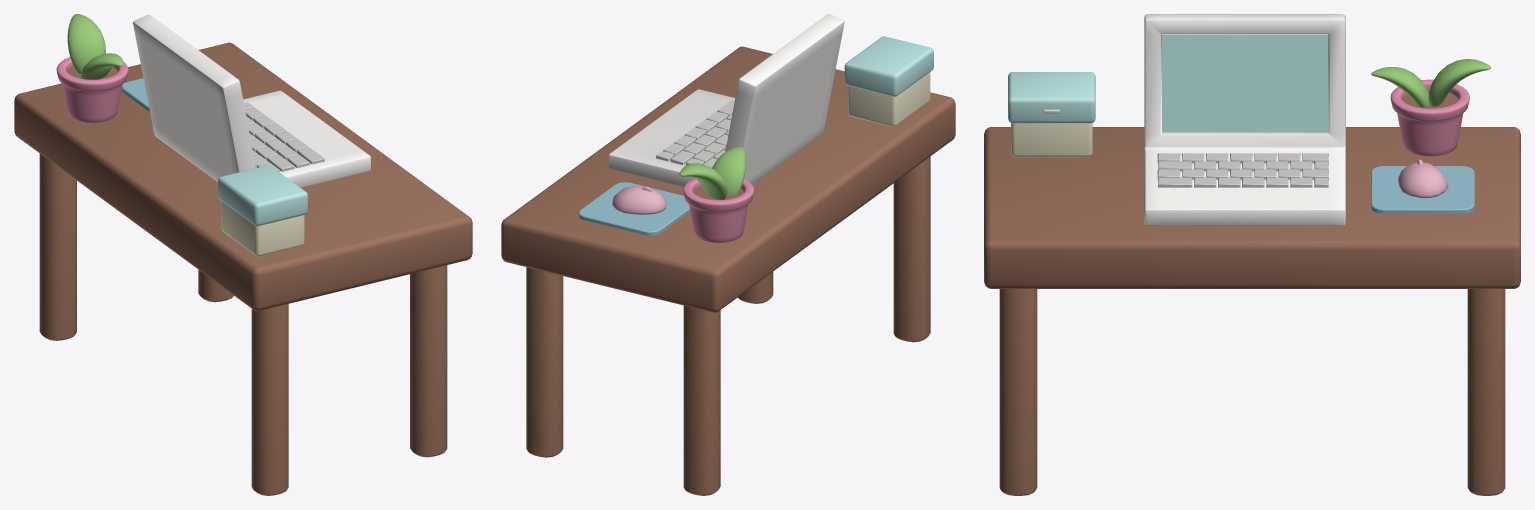
The model's file is desk.gltf.
3 renders of one model, left to right at view 1: azimuth 30°, elevation 25°; view 2: azimuth 150°, elevation 25°; view 3: azimuth 270°, elevation 25°, orthographic. The views are drawn at different scales.
Parts seen in each view (by area): view 1: 책상, 노트북-Mfloor2, Cube.1 (×2), Cube (×3), Cube.10, Cylinder-서랍, Cube.9, Sphere, Sphere.1; view 2: 책상, 노트북-Mfloor2, Cube.1 (×2), Cube (×3), Cube.10, Cylinder-서랍, Cube.9, Sphere (×2), Sphere.1; view 3: 책상, 노트북-Mfloor2, Cube (×3), 노트북-rmirror, Cube.10, Cylinder-서랍, Cube.9, Sphere (×2), Sphere.1.
Boxes of the visible parts, x1,y1,x2,y2 form: 책상: (14,42,472,311); 노트북-Mfloor2: (133,14,370,187); Cube.1 (×2): (39,153,288,495); Cube (×3): (121,78,447,457); Cube.10: (218,165,307,226); Cylinder-서랍: (56,57,128,122); Cube.9: (221,201,304,256); Sphere: (67,14,105,73); Sphere.1: (81,53,123,79); 책상: (501,46,955,312); 노트북-Mfloor2: (608,14,844,186); Cube.1 (×2): (683,156,930,495); Cube (×3): (526,182,773,457); Cube.10: (844,36,933,96); Cylinder-서랍: (683,178,754,242); Cube.9: (848,72,930,126); Sphere (×2): (612,163,727,214); Sphere.1: (712,146,745,195); 책상: (984,127,1520,288); 노트북-Mfloor2: (1144,14,1345,225); Cube (×3): (999,166,1505,495); 노트북-rmirror: (1162,34,1328,132); Cube.10: (1008,72,1095,123); Cylinder-서랍: (1390,79,1469,156); Cube.9: (1011,123,1092,157); Sphere (×2): (1398,59,1490,198); Sphere.1: (1371,67,1429,107).
Bounding box in the file's own units: 0.3496 × 0.5506 × 0.6687.
